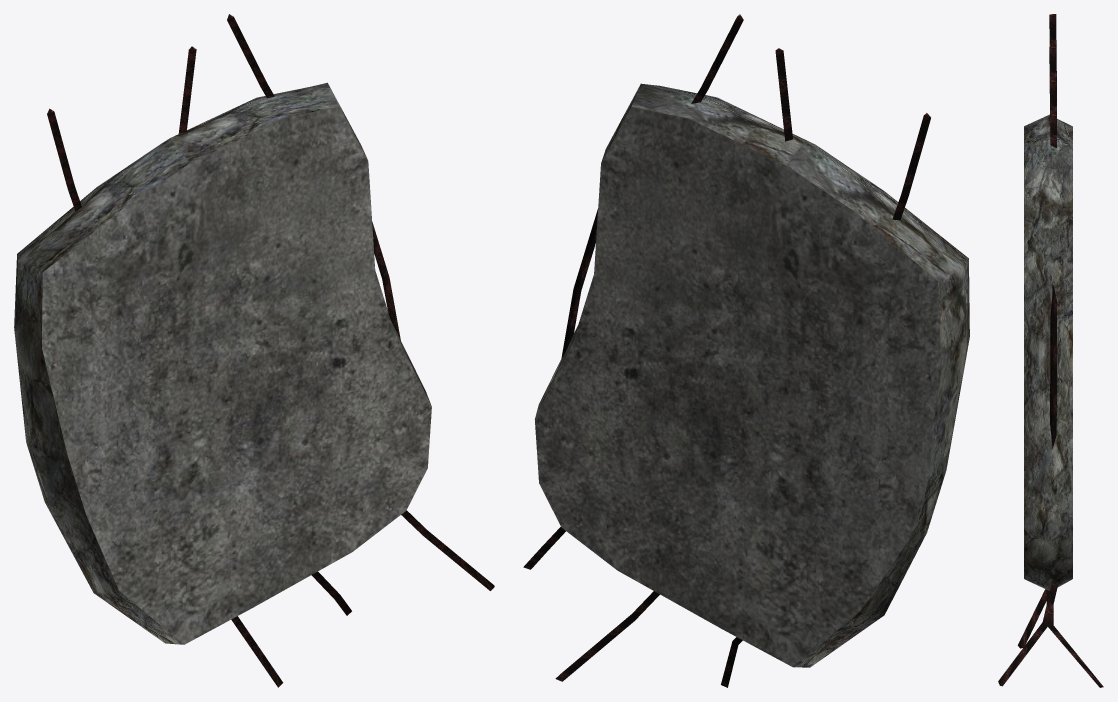
The model's file is gully_bridge_debris_lg01.glb.
3 views of the same model, side by side, from view 1: azimuth 30°, elevation 25°; view 2: azimuth 150°, elevation 25°; view 3: azimuth 270°, elevation 25° (orthographic). The views are drawn at different scales.
Size of the model in its own units: 151 by 212 by 34.49.
Materials: 3 (3 with a texture image).
